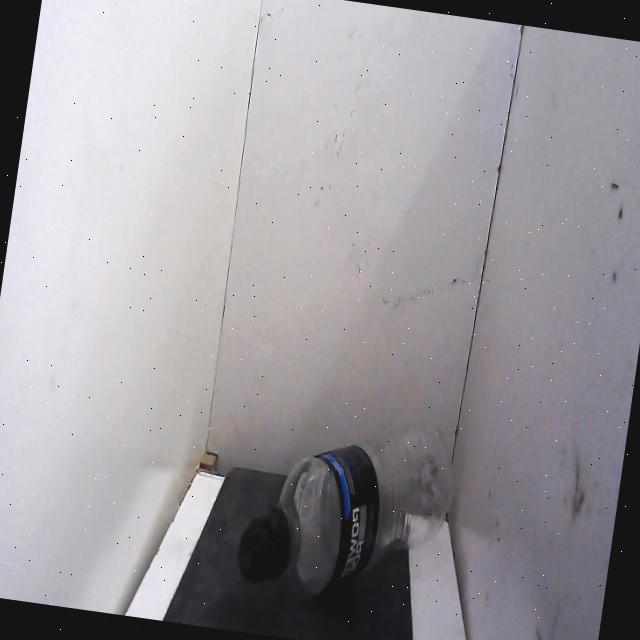plastico: (228, 386, 470, 626)
